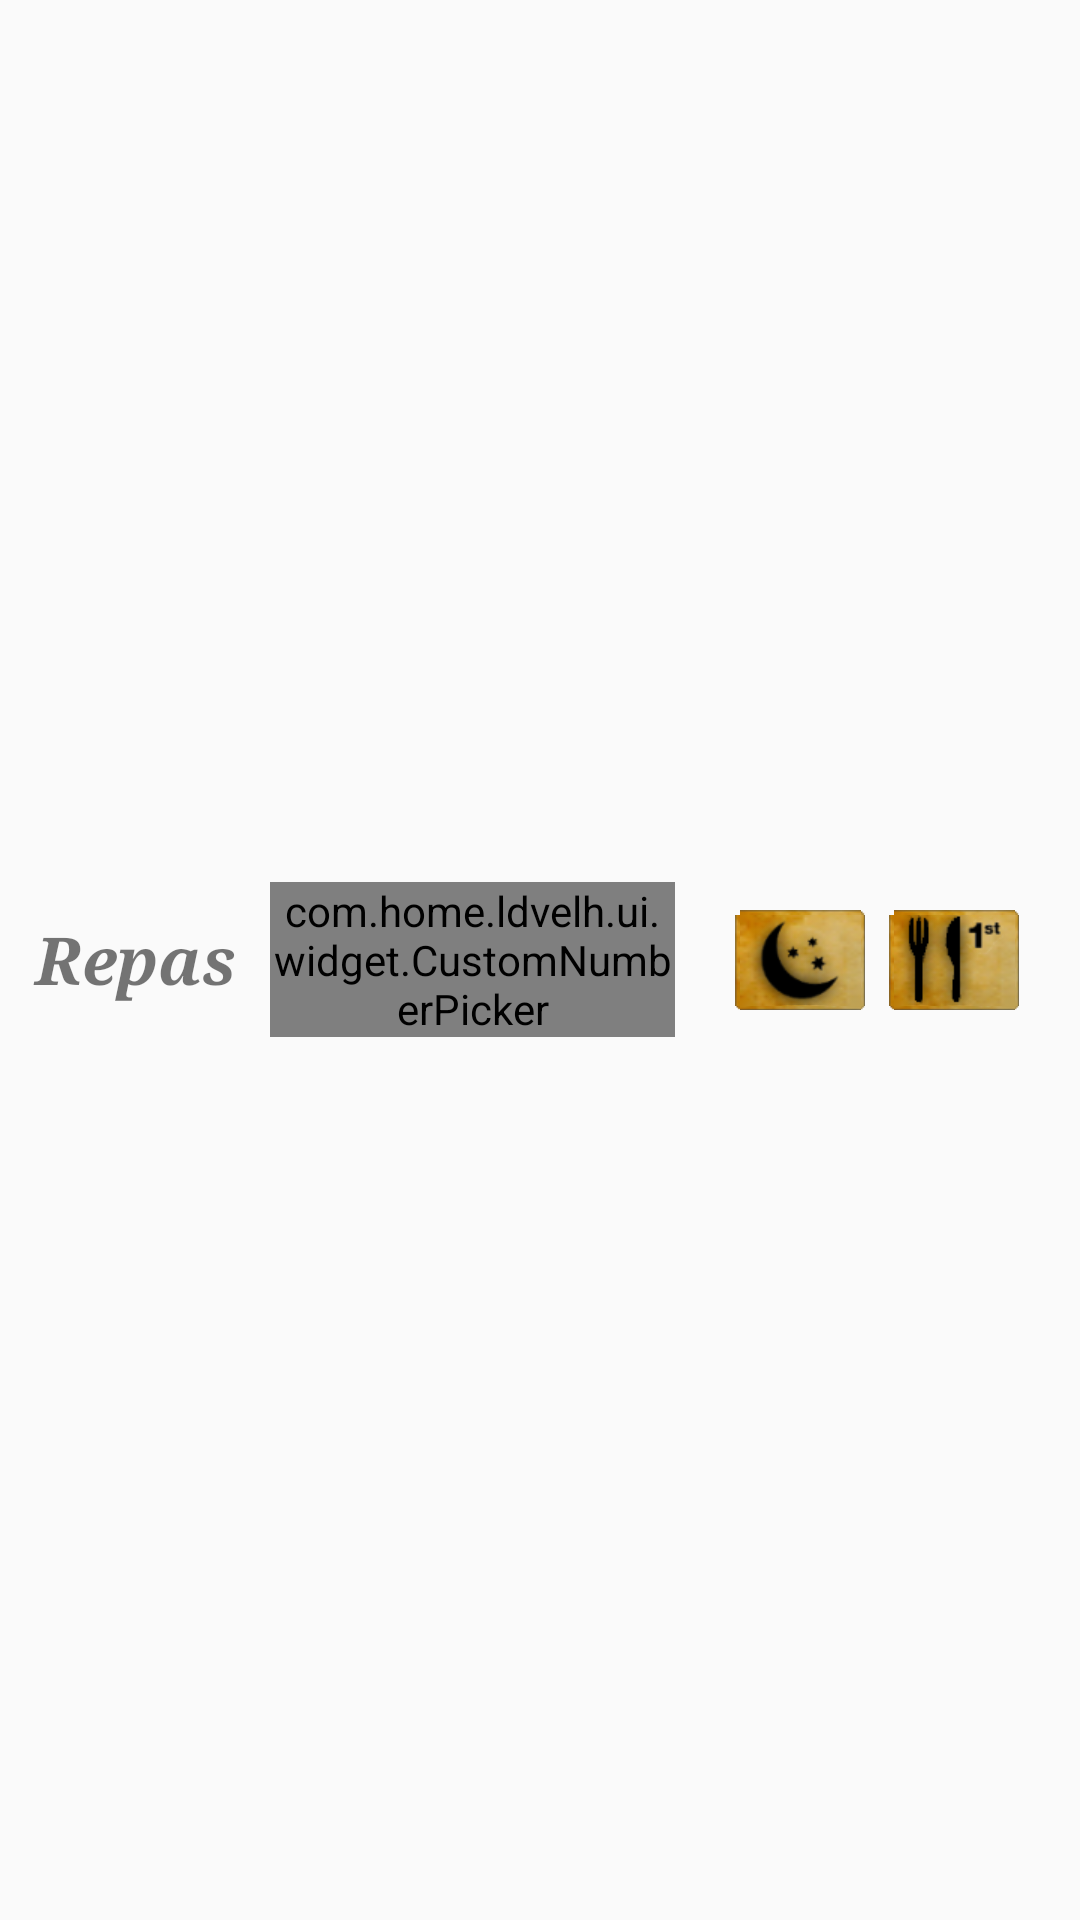

Where to tap for icons on this 1080x1920 app screen, as [x,y]:
eat st: [954,960]
night: [800,960]
